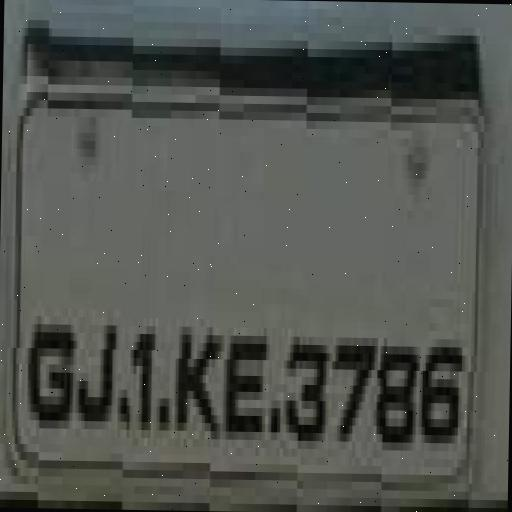number plate: (0, 75, 497, 512)
